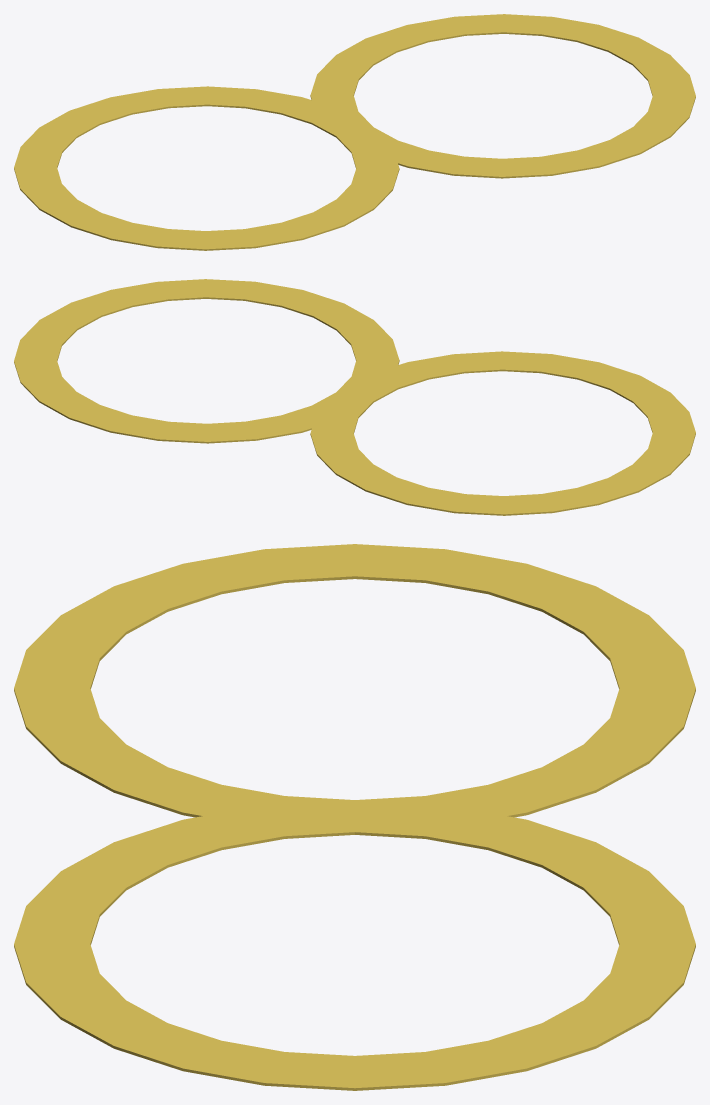
File: eight.dae
3 renders of one model, top to bottom at view 1: azimuth 30°, elevation 25°; view 2: azimuth 150°, elevation 25°; view 3: azimuth 270°, elevation 25°, orthographic. The views are drawn at different scales.
Visible parts, largest first — view 1: Loft02; view 2: Loft02; view 3: Loft02.
Part boxes in pixels (<box>): Loft02: <box>14,14,695,250</box>; Loft02: <box>14,279,695,515</box>; Loft02: <box>14,544,695,1090</box>.
Bounding box in the file's own units: 670 × 355 × 1.57.
